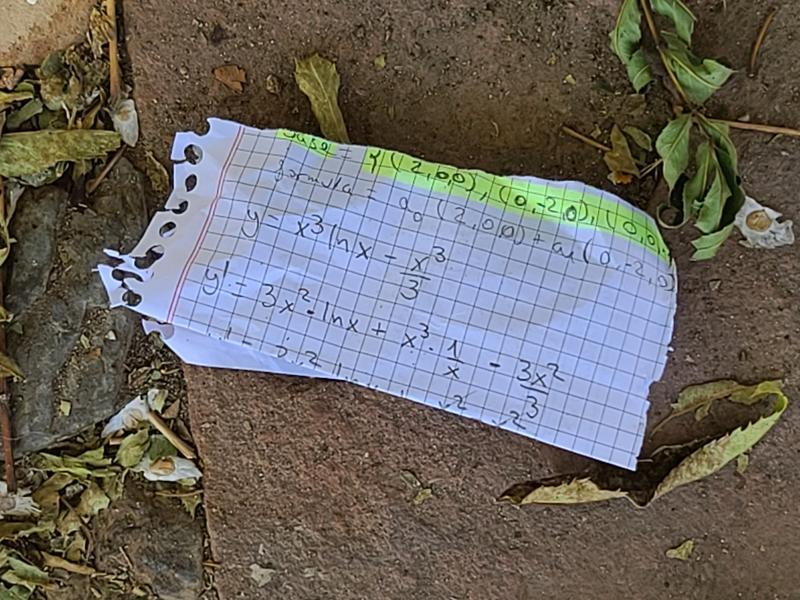papel: (98, 119, 679, 475)
